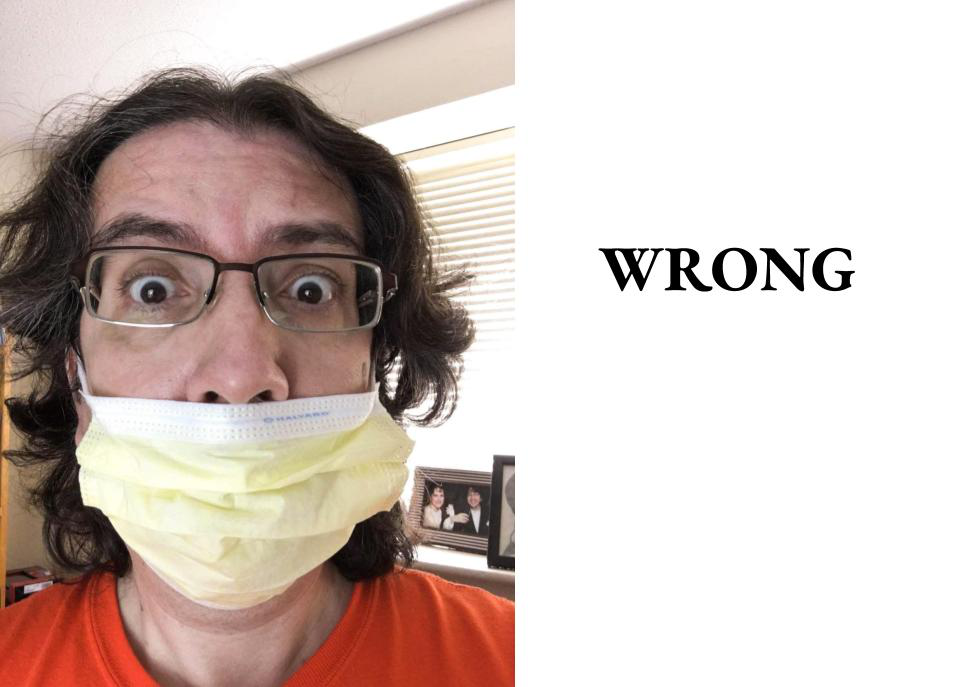mask_weared_incorrect: (56, 192, 418, 619)
